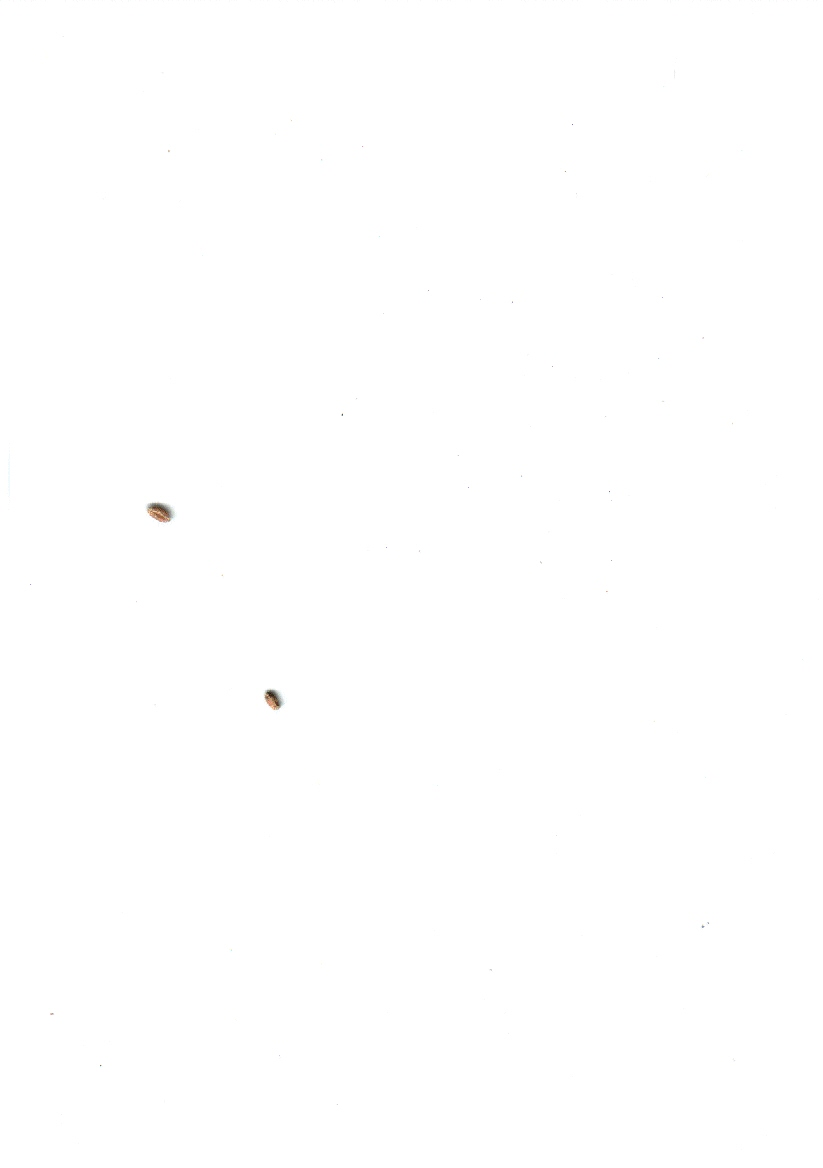grains: (133, 488, 185, 540), (247, 680, 302, 728)
